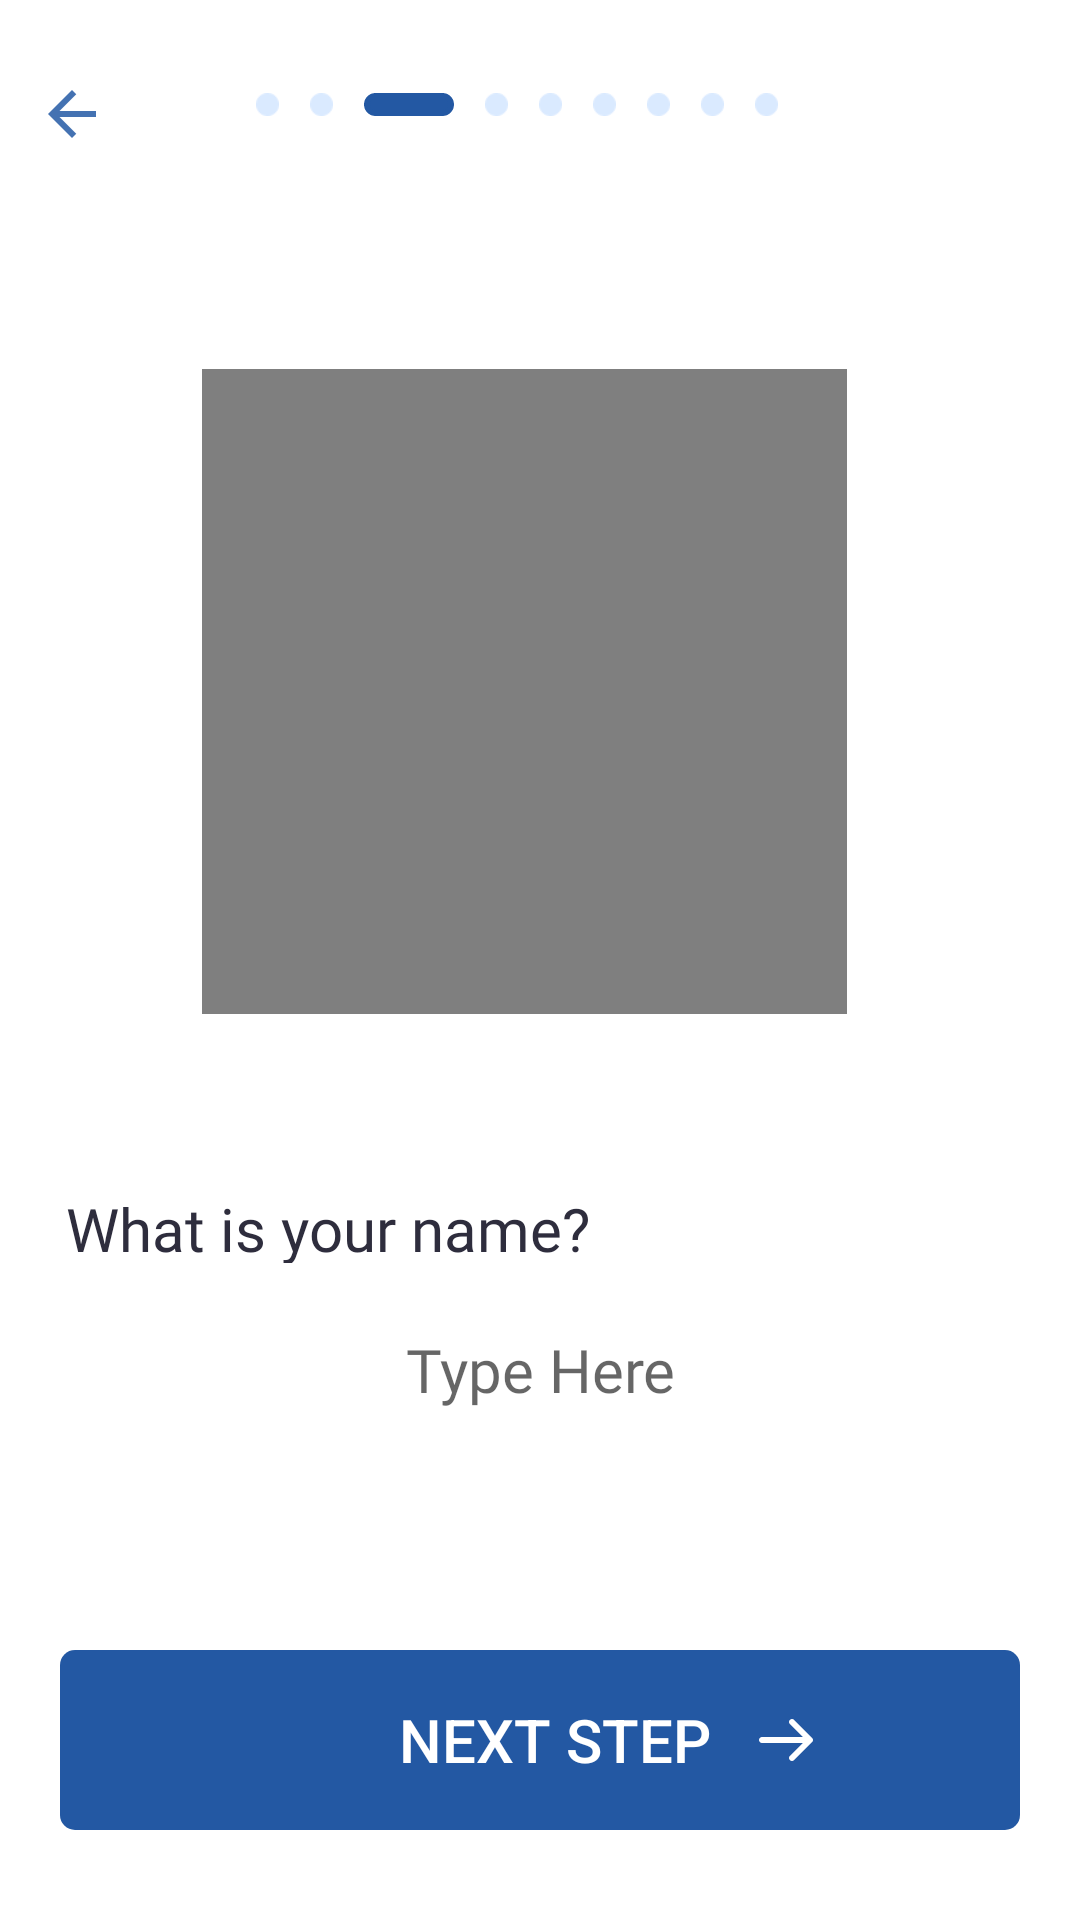

Screen size 1080px×1920px. Icon name, then its box in pixels as [x1=x1, y1=y1, x2=x2, y2=y2]:
feather arrow right: [x1=759, y1=1719, x2=813, y2=1761]
